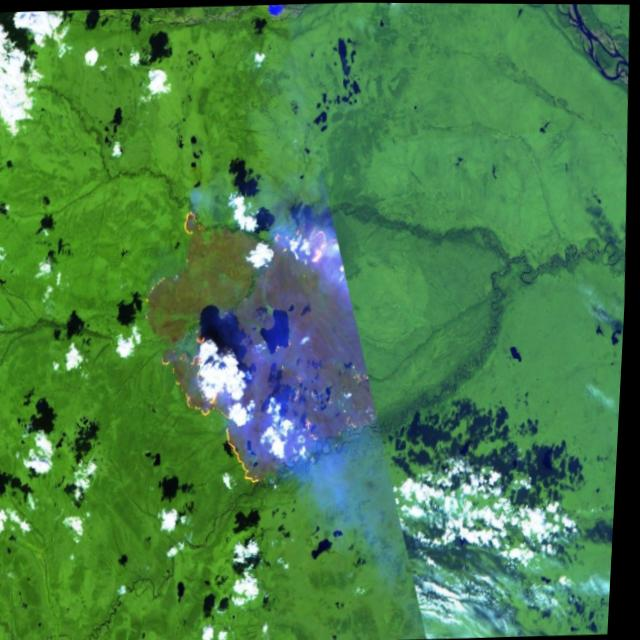fire: (143, 189, 382, 505)
